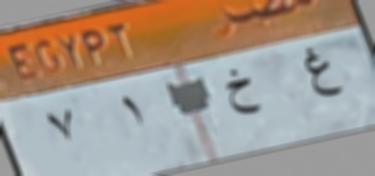1: (116, 87, 146, 138)
7: (44, 103, 85, 146)
ghayn: (292, 42, 344, 108)
khaa: (223, 63, 261, 131)
